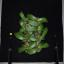leaf: (14, 32, 26, 41), (18, 18, 26, 30), (40, 28, 48, 40), (26, 40, 38, 48), (18, 11, 26, 21), (25, 26, 37, 32), (29, 34, 39, 41), (26, 14, 37, 20), (27, 20, 38, 26), (38, 42, 49, 48), (27, 48, 38, 54), (18, 45, 26, 53), (37, 18, 48, 23), (38, 24, 43, 32), (18, 28, 26, 32), (27, 34, 30, 40)
